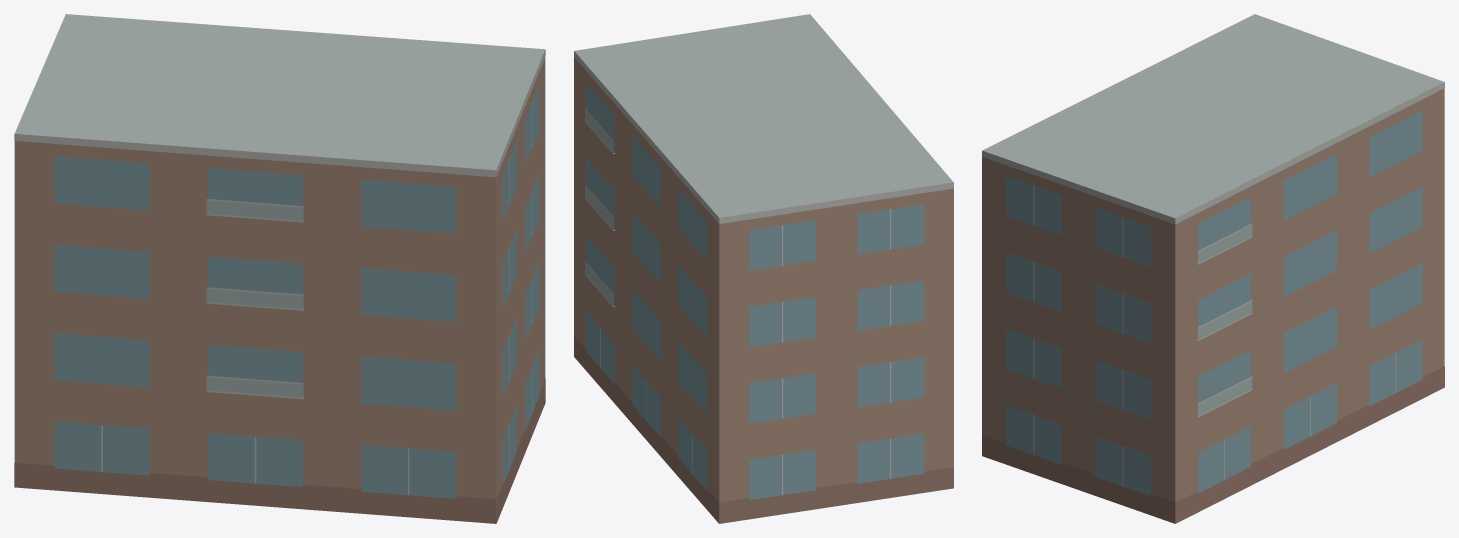
File: survey-upis-32806453.glb
3 views of the same model, side by side, from view 1: azimuth 30°, elevation 25°; view 2: azimuth 150°, elevation 25°; view 3: azimuth 270°, elevation 25° (orthographic). The views are drawn at different scales.
Parts seen in each view (by area): view 1: survey-upis-32806453.tmp; view 2: survey-upis-32806453.tmp; view 3: survey-upis-32806453.tmp.
Boxes of the visible parts, x1,y1,x2,y2 form: survey-upis-32806453.tmp: (14, 14, 545, 523); survey-upis-32806453.tmp: (574, 14, 953, 523); survey-upis-32806453.tmp: (982, 14, 1444, 523).
Size of the model in its own units: 17.52 by 12.2 by 16.76.
